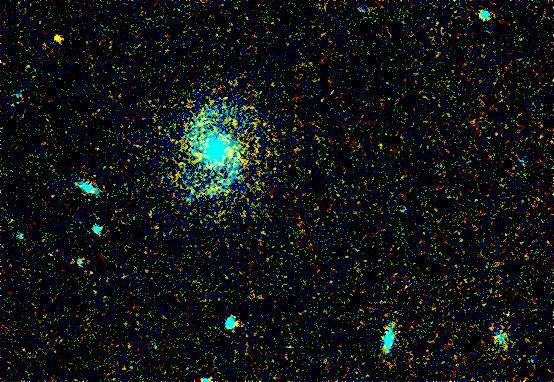star: (44, 24, 74, 54)
